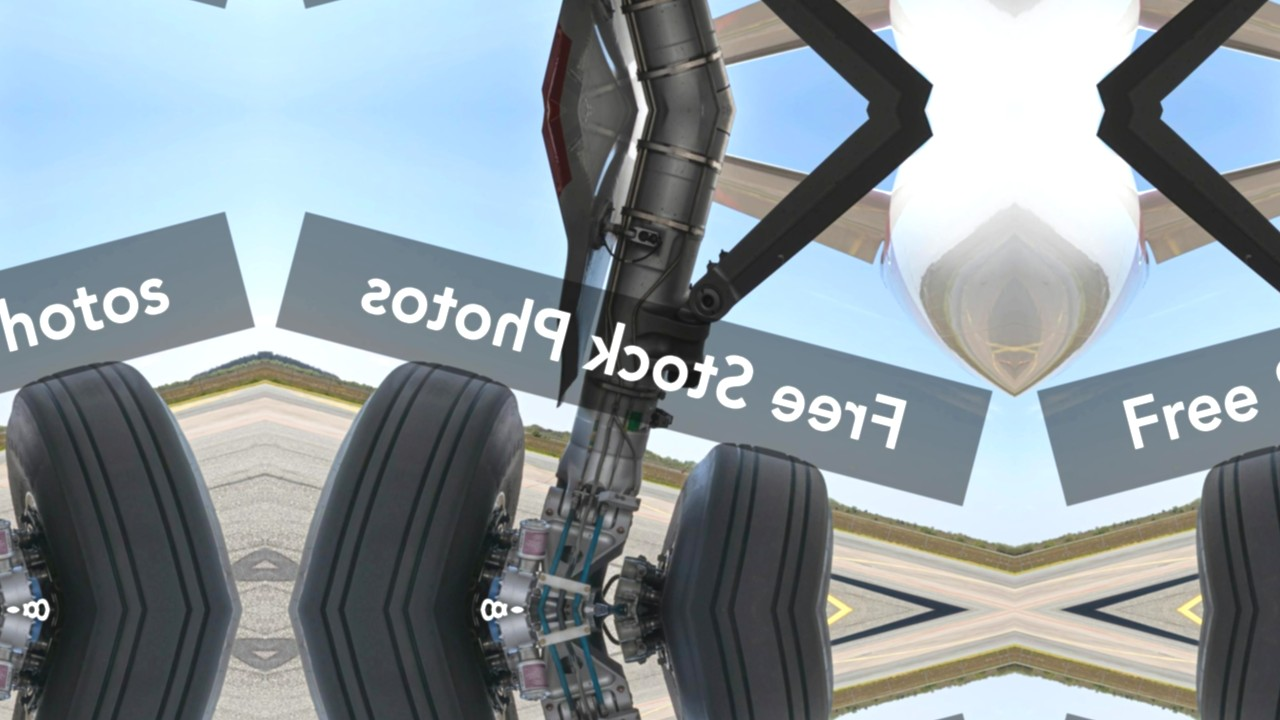wheel: (298, 342, 544, 610), (0, 342, 232, 610), (635, 430, 867, 610), (298, 610, 544, 720), (0, 610, 232, 720), (635, 610, 867, 720), (1163, 430, 1280, 610), (1163, 610, 1280, 720)
